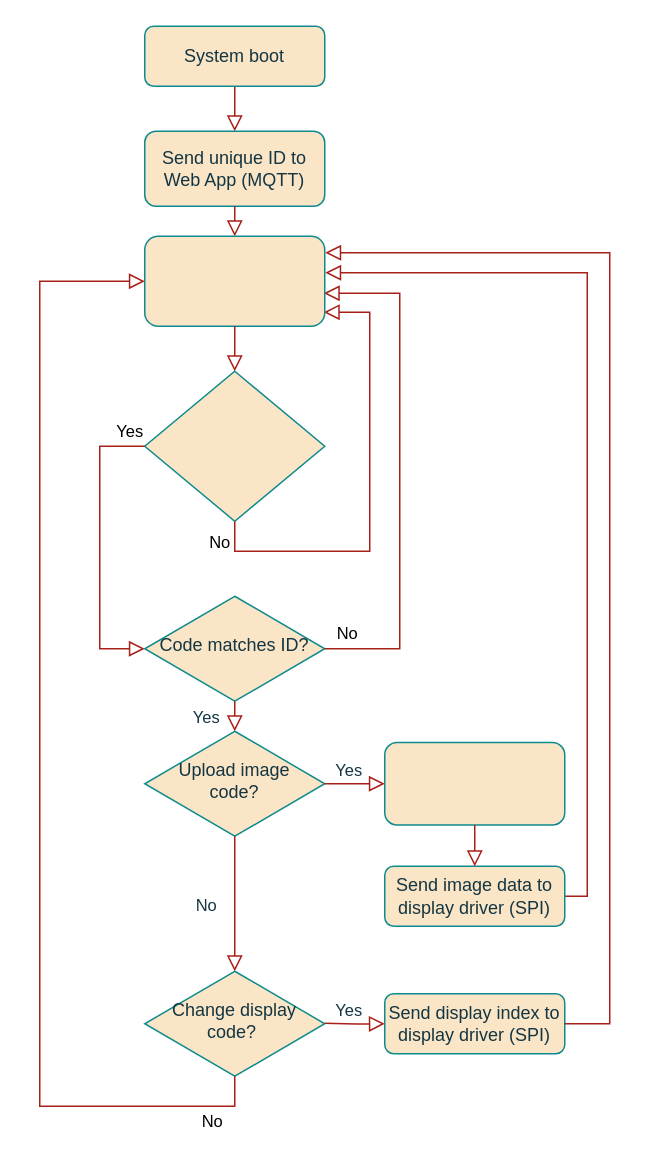
Some shapes in this 651 by 1157 pixel diagram are drawn without their labels. The centre of each missing label's shape, as x and y in pixels:
"Download image data from web app (HTTP)" goes at pixel 474 783.
"Listen for messages (MQTT)" goes at pixel 234 280.
"Received code? (MQTT)" goes at pixel 234 445.
